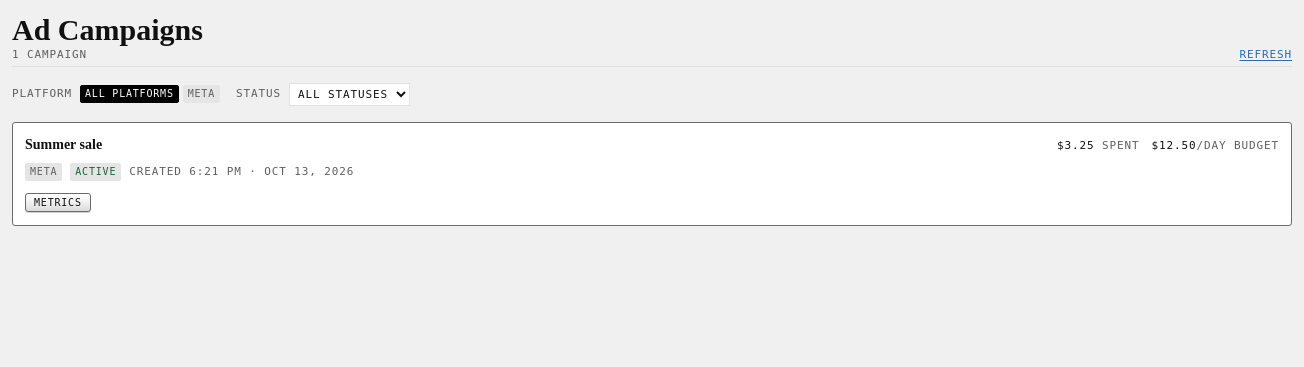
Test: V25/L4 — ads revenue/ROAS render null and measured zero distinctly › omits the coverage note when every loaded day is fully measured
Expected: the element with test id "campaign-row" is shown, [12, 122, 1292, 226]
Step 1. Click the button with test id "campaign-metrics-toggle-7" → (58,203), box [25, 193, 91, 212]
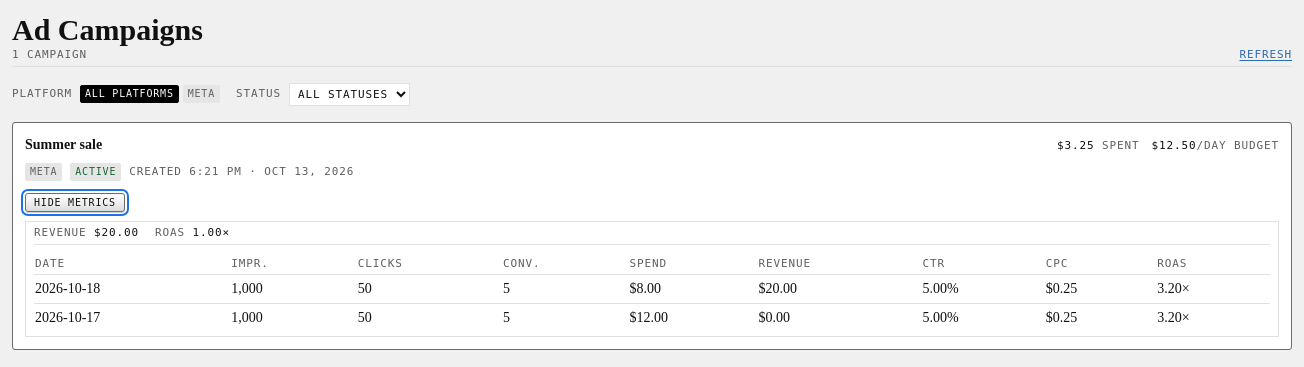
Expected: the text with test id "campaign-revenue-7" reads "$20.00", [94, 226, 139, 239]
Expected: the text with test id "campaign-roas-7" reads "1.00×", [193, 226, 230, 239]
